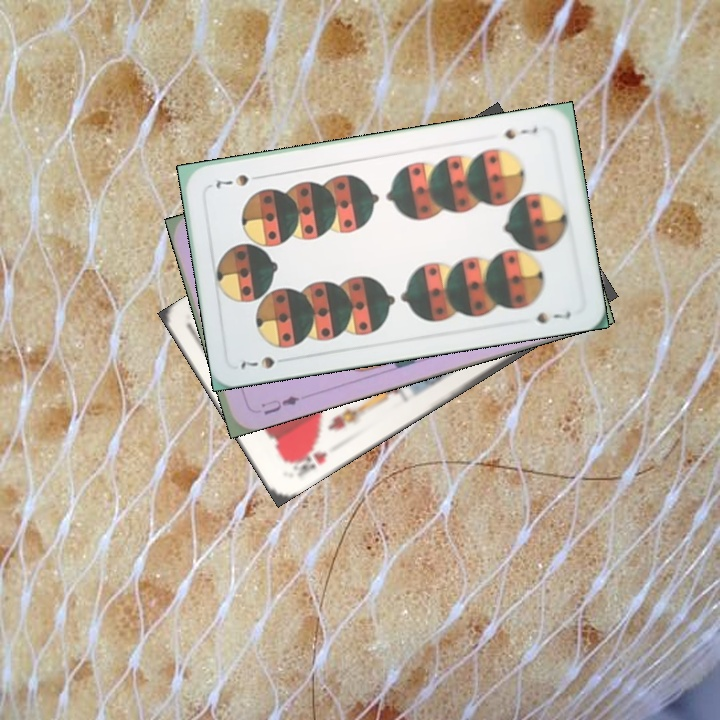EU: (257, 391, 302, 418)
HK: (286, 444, 330, 480)
S7: (236, 352, 294, 373), (499, 123, 541, 142)
